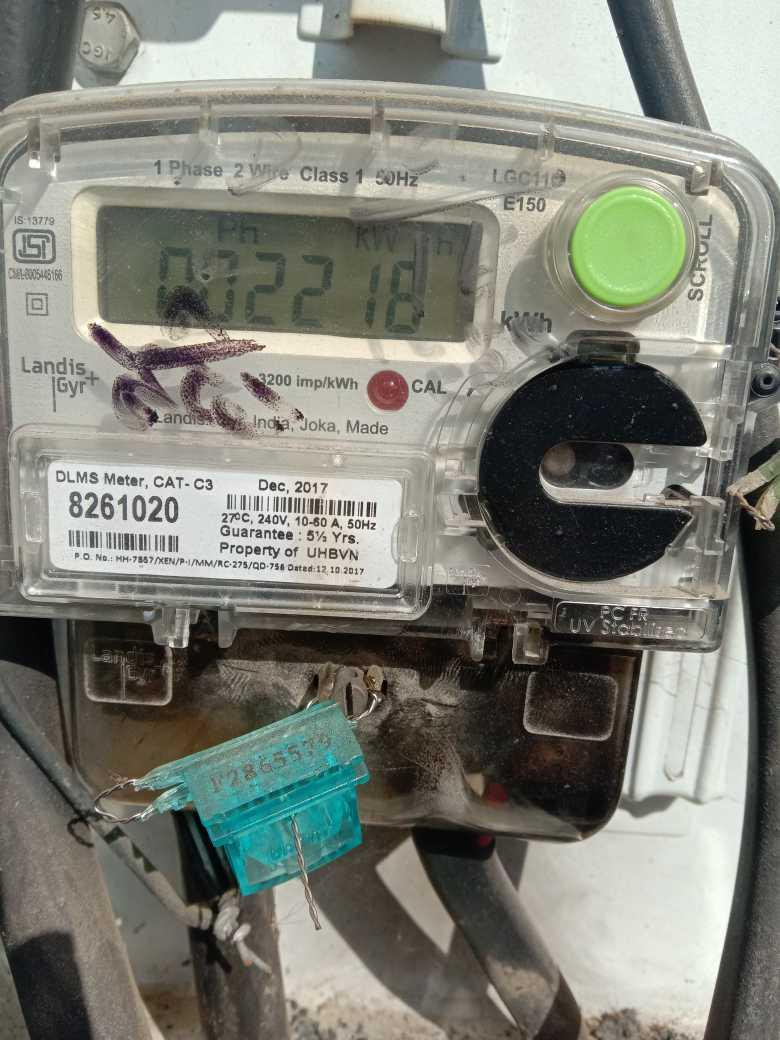.: (351, 219, 461, 259)
1: (153, 241, 197, 326), (200, 241, 241, 322)
2: (358, 262, 386, 331)
3: (292, 248, 336, 330), (245, 248, 288, 328)
7: (381, 259, 435, 334)
